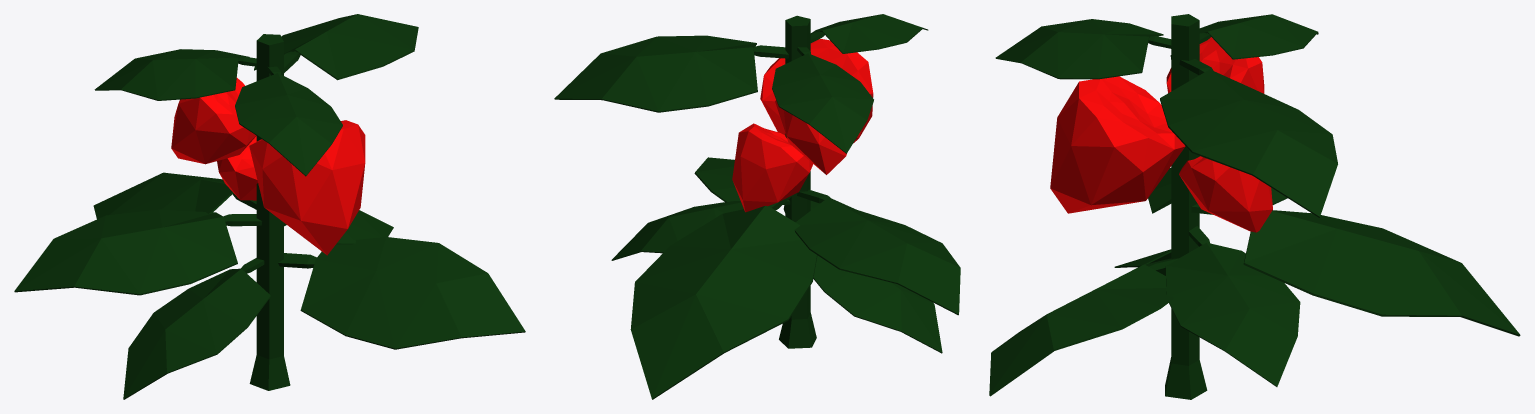
File: StrawberryPlant_Stage_03.obj
3 views of the same model, side by side, from view 1: azimuth 30°, elevation 25°; view 2: azimuth 150°, elevation 25°; view 3: azimuth 270°, elevation 25° (orthographic). The views are drawn at different scales.
Parts seen in each view (by area): view 1: StrawberryPlant_Stage_03_Cylinder.028; view 2: StrawberryPlant_Stage_03_Cylinder.028; view 3: StrawberryPlant_Stage_03_Cylinder.028.
Part boxes in pixels (<box>): StrawberryPlant_Stage_03_Cylinder.028: <box>14,14,525,399</box>; StrawberryPlant_Stage_03_Cylinder.028: <box>554,14,960,399</box>; StrawberryPlant_Stage_03_Cylinder.028: <box>989,14,1520,399</box>.
Bounding box in the file's own units: 3.16 × 2.51 × 3.26.
